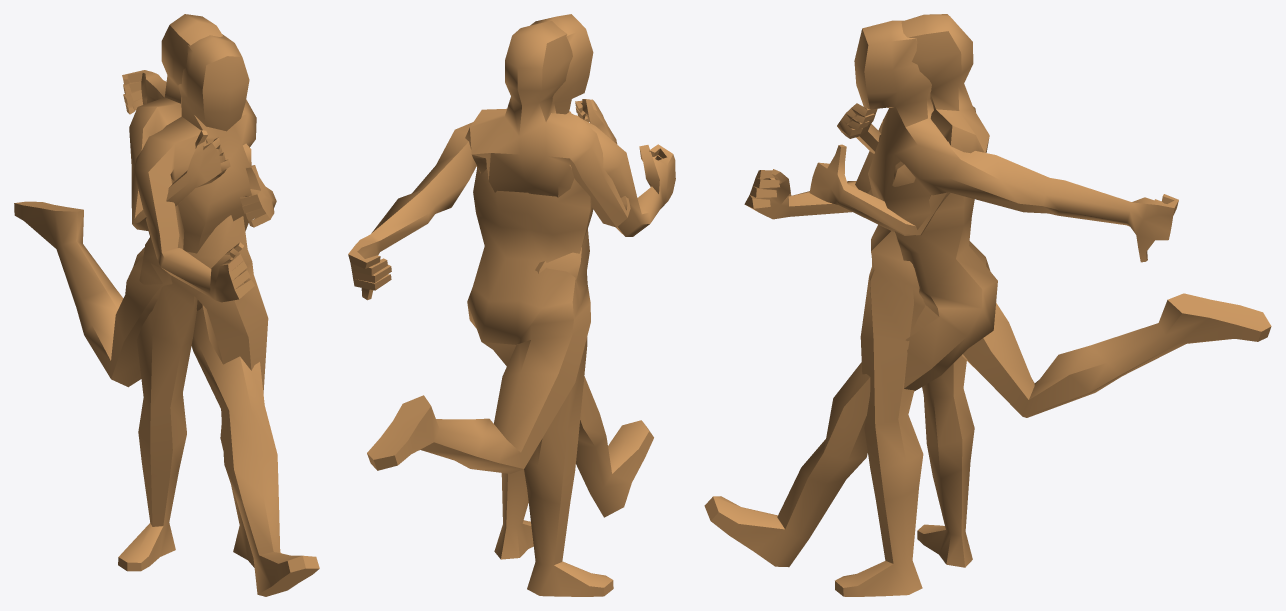
Rendered from human_1.obj.
The picture shows the model from 3 angles, left to right: view 1: azimuth 30°, elevation 25°; view 2: azimuth 150°, elevation 25°; view 3: azimuth 270°, elevation 25°; orthographic projection. The views are drawn at different scales.
Parts seen in each view (by area): view 1: HumanMale_meHumanMale, HumanFemale_meHumanFemale; view 2: HumanMale_meHumanMale, HumanFemale_meHumanFemale; view 3: HumanMale_meHumanMale, HumanFemale_meHumanFemale.
Boxes of the visible parts, x1,y1,x2,y2 form: HumanMale_meHumanMale: (14, 34, 319, 596); HumanFemale_meHumanFemale: (118, 14, 280, 571); HumanMale_meHumanMale: (348, 14, 675, 517); HumanFemale_meHumanFemale: (465, 21, 630, 596); HumanMale_meHumanMale: (704, 20, 1271, 567); HumanFemale_meHumanFemale: (809, 14, 989, 596).
Bounding box in the file's own units: 0.5188 × 1.77 × 1.63.
